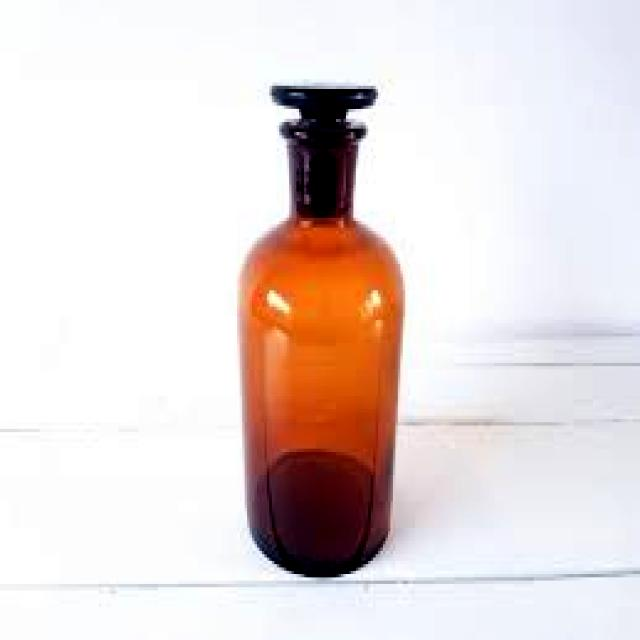Glass: (227, 79, 410, 589)
